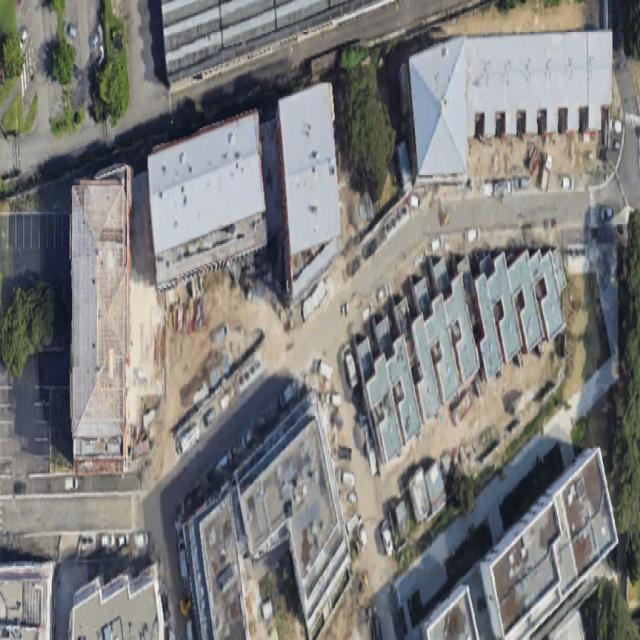immeuble: (404, 29, 613, 179), (144, 111, 269, 291), (66, 167, 131, 478), (273, 81, 344, 304)
maison: (413, 272, 463, 404), (432, 253, 482, 385), (355, 334, 405, 465), (375, 316, 425, 447), (394, 294, 444, 425), (456, 253, 506, 384), (478, 251, 526, 363), (502, 249, 548, 355), (528, 248, 568, 337)
